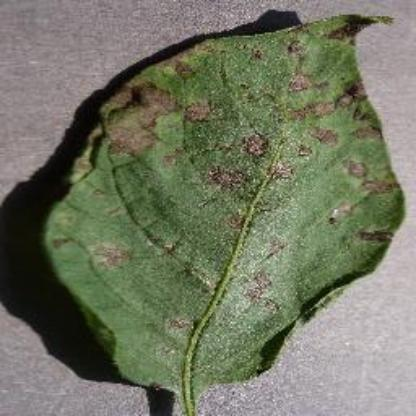Early-Blight: (38, 9, 404, 397)
